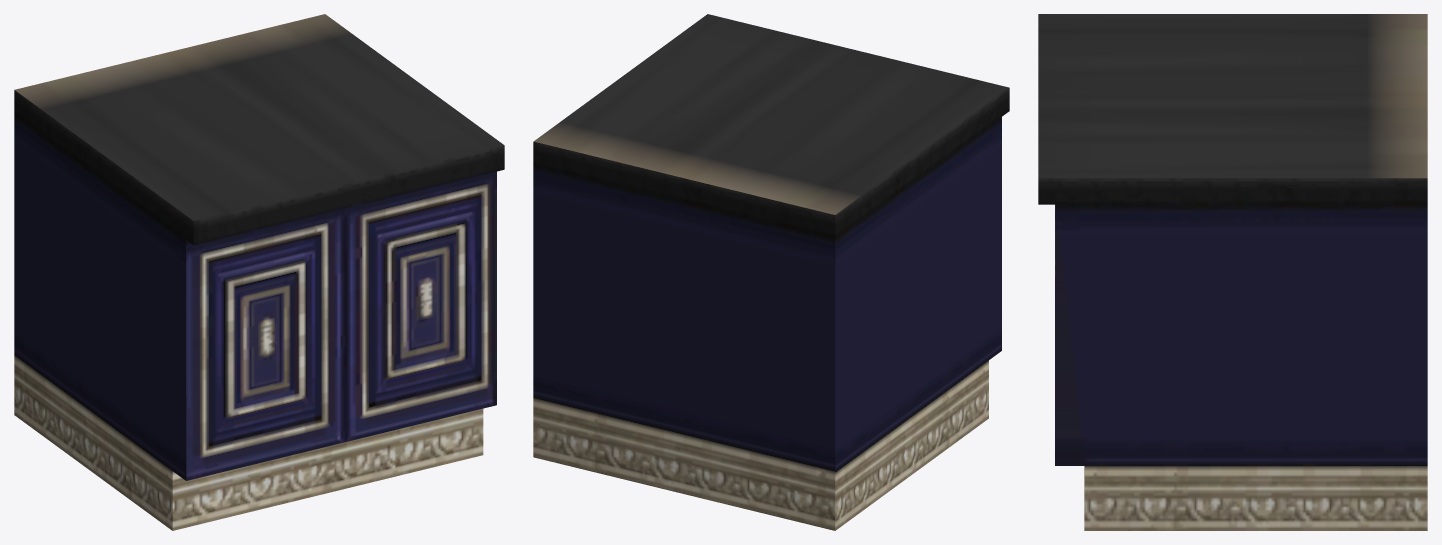
File: furni_0201122.FBX
3 renders of one model, left to right at view 1: azimuth 30°, elevation 25°; view 2: azimuth 150°, elevation 25°; view 3: azimuth 270°, elevation 25°, orthographic. The views are drawn at different scales.
Visible parts, largest first — view 1: furni_0201122; view 2: furni_0201122; view 3: furni_0201122.
Boxes of the visible parts, x1,y1,x2,y2 form: furni_0201122: (14, 14, 504, 530); furni_0201122: (533, 14, 1009, 530); furni_0201122: (1038, 14, 1427, 530).
Bounding box in the file's own units: 80 × 80 × 80.
Materials: 1 (1 with a texture image).
